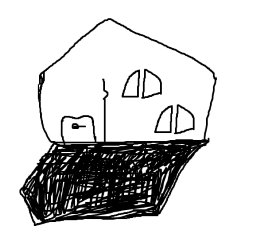closed_window: (111, 66, 165, 102), (150, 102, 203, 137)
door: (59, 106, 100, 150)
shadow: (15, 136, 212, 233)
single_line_roof: (35, 12, 223, 80)
wall: (32, 73, 219, 146)
